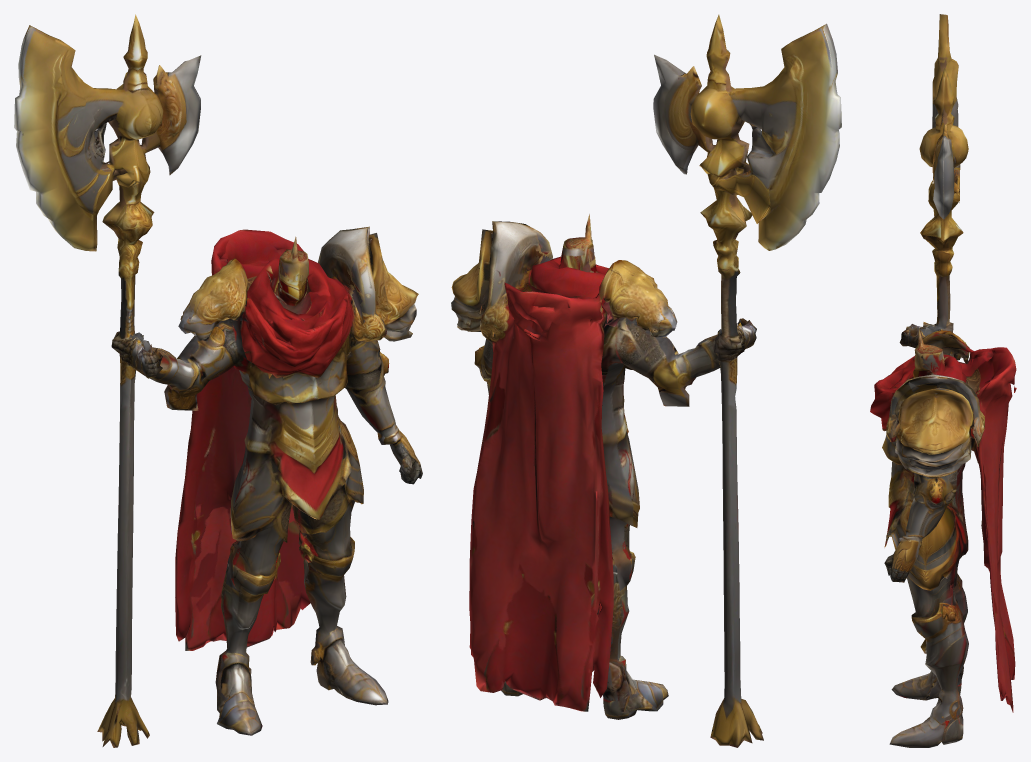
The model's file is knight-of-valor.glb.
The picture shows the model from 3 angles, left to right: view 1: azimuth 30°, elevation 25°; view 2: azimuth 150°, elevation 25°; view 3: azimuth 270°, elevation 25°; orthographic projection. The views are drawn at different scales.
Bounding box in the file's own units: 1.11 × 1.99 × 0.4396.
1 material, 1 textured.
